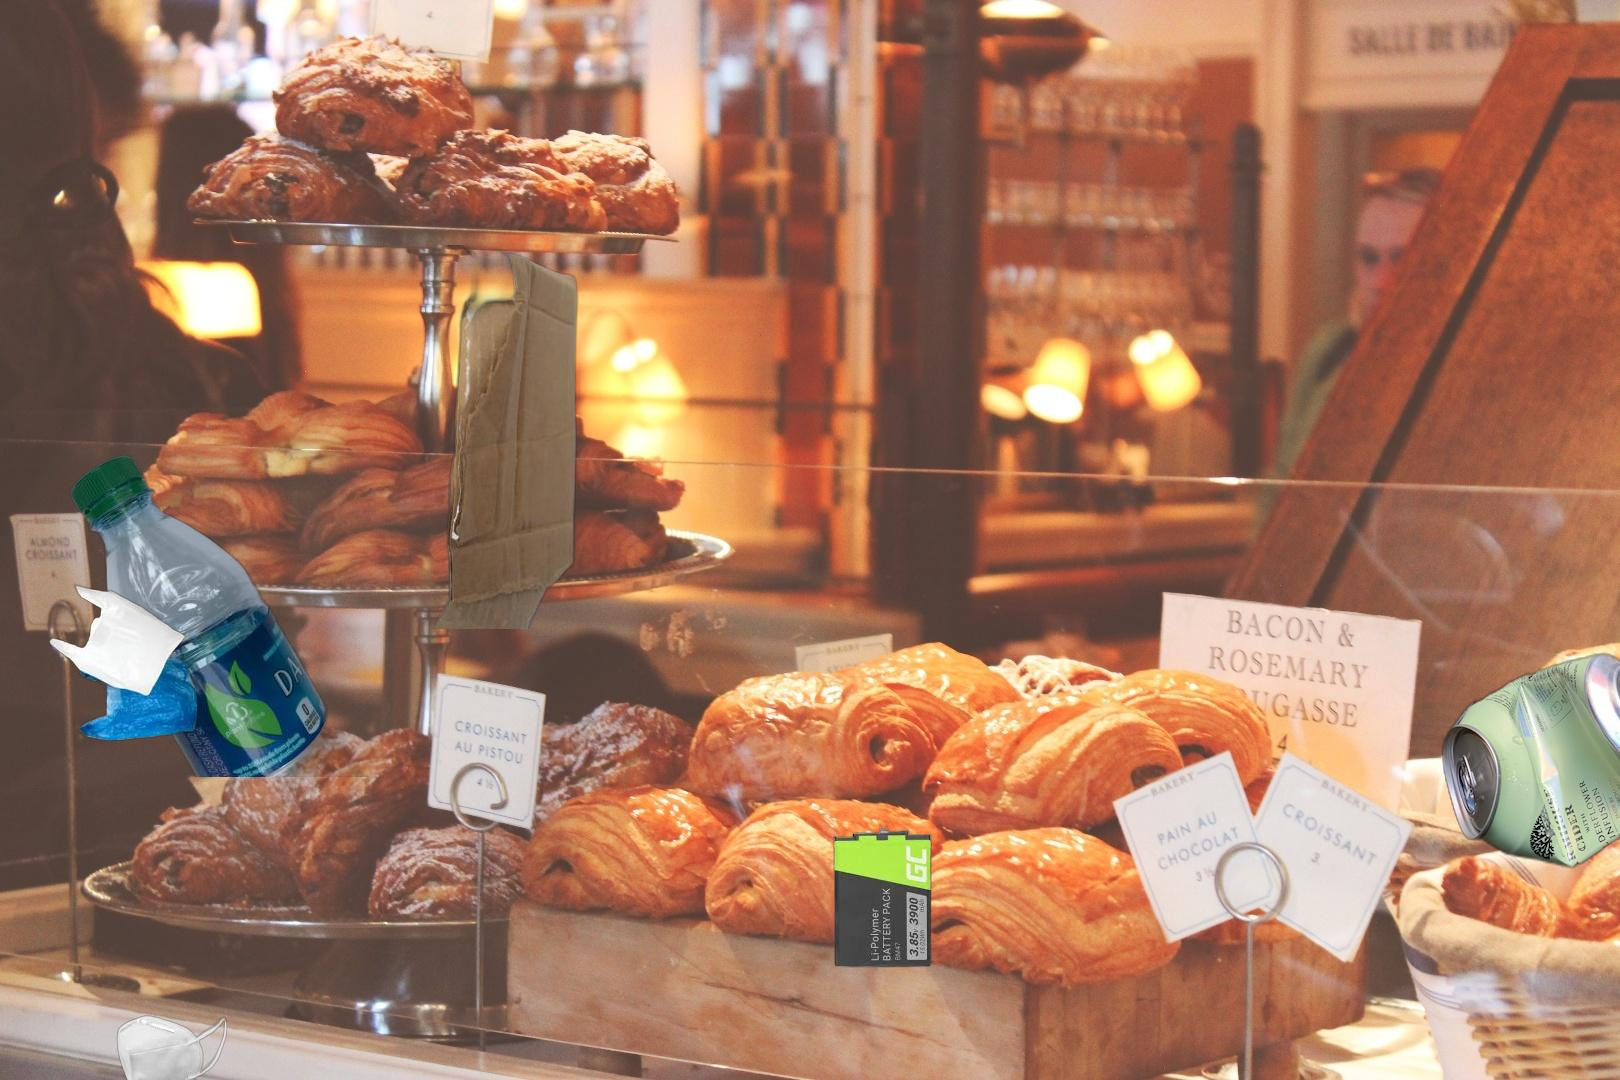battery: (830, 821, 934, 970)
metal-cans: (1439, 647, 1620, 874)
plastic-bag: (45, 581, 200, 742)
plastic-bottles: (66, 453, 369, 777)
trash: (115, 1012, 230, 1080)
trashbox-cardboard: (378, 245, 582, 629)
